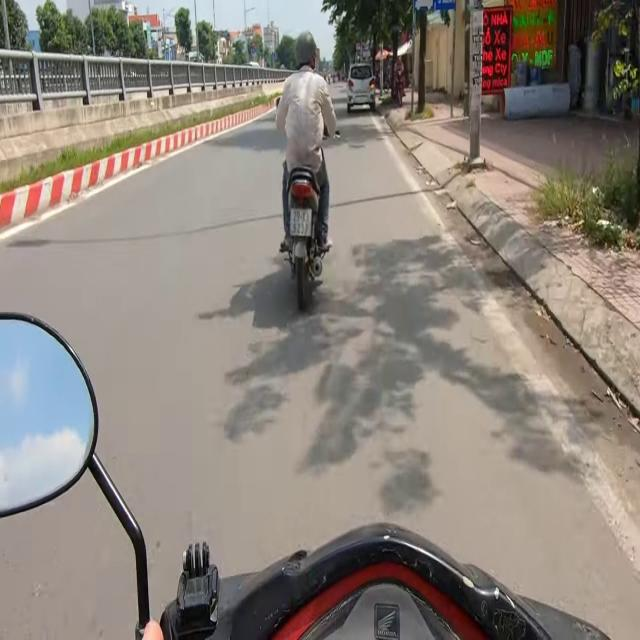bien_trang: (290, 206, 313, 238)
